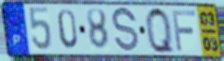0: (56, 9, 79, 52)
5: (27, 6, 53, 54)
8: (86, 8, 109, 53)
F: (170, 9, 197, 53)
Q: (144, 5, 177, 56)
S: (111, 5, 140, 55)
